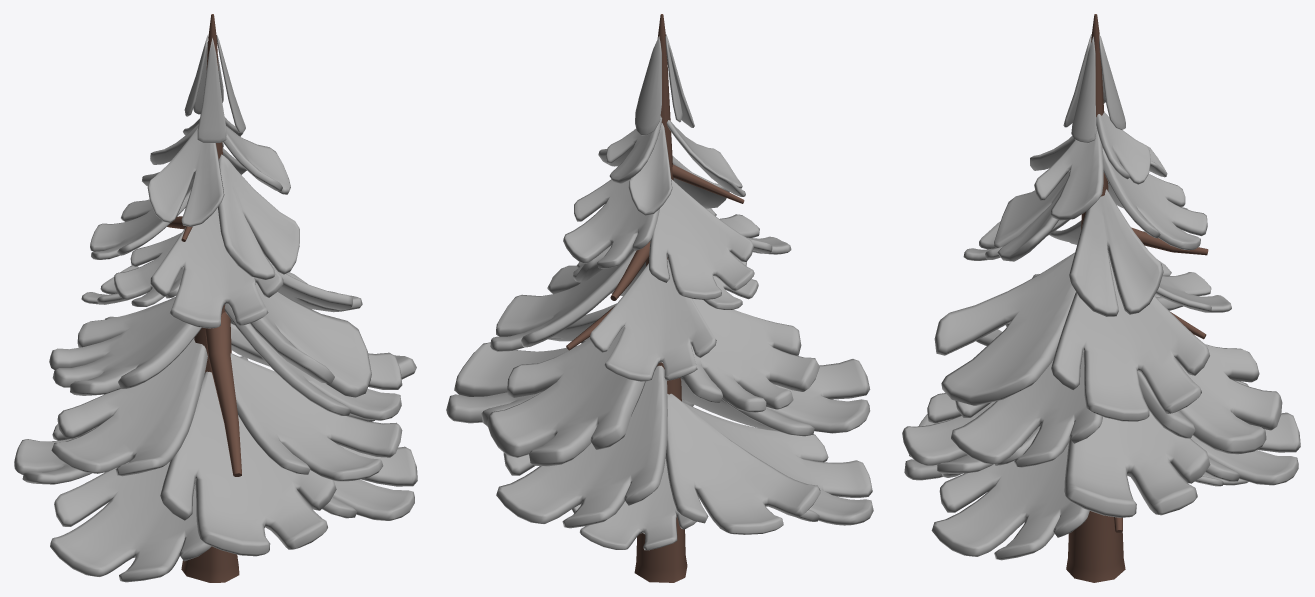
Rendered from PineTreeE.fbx.
The picture shows the model from 3 angles, left to right: view 1: azimuth 30°, elevation 25°; view 2: azimuth 150°, elevation 25°; view 3: azimuth 270°, elevation 25°; orthographic projection.
Parts seen in each view (by area): view 1: PineE1; view 2: PineE1; view 3: PineE1.
Part boxes in pixels (x1=…): PineE1: x1=14, y1=14, x2=417, y2=582; PineE1: x1=446, y1=14, x2=873, y2=582; PineE1: x1=902, y1=14, x2=1300, y2=582.
Size of the model in its own units: 200 by 284 by 184.
